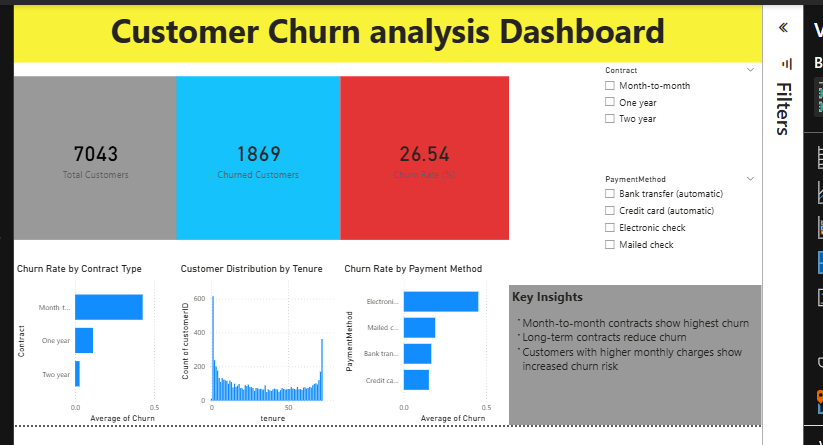

What the dashboard file says about the page in this screenshot:
{"tool":"powerbi","page":{"name":"Page 1","canvas":[1280,720],"ordinal":0},"visuals":[{"type":"card","fields":{"Values":["cleaned_churn_data.Total Customers"]},"box":[0,121.9,280.2,280.2],"z":0},{"type":"barChart","title":"Churn Rate by Contract Type","fields":{"Category":["cleaned_churn_data.Contract"],"Y":["Avg(cleaned_churn_data.Churn)"]},"box":[0,440.6,280.2,280.2],"z":1000},{"type":"barChart","title":"Churn Rate by Payment Method","fields":{"Category":["cleaned_churn_data.PaymentMethod"],"Y":["Avg(cleaned_churn_data.Churn)"]},"box":[560.4,440.6,288.8,280.2],"z":2000},{"type":"clusteredColumnChart","title":"Customer Distribution by Tenure","fields":{"Y":["CountNonNull(cleaned_churn_data.customerID)"],"Category":["cleaned_churn_data.tenure"]},"box":[280.2,440.6,280.2,280.2],"z":3000},{"type":"slicer","fields":{"Values":["cleaned_churn_data.Contract"]},"box":[998.9,98.4,280.2,186.1],"z":4000},{"type":"slicer","fields":{"Values":["cleaned_churn_data.PaymentMethod"]},"box":[998.9,284.5,280.2,194.7],"z":5000},{"type":"textbox","box":[0,0,1280,98.6],"z":6000},{"type":"textbox","box":[847.1,479.2,432.1,241.7],"z":7000},{"type":"card","fields":{"Values":["cleaned_churn_data.Churned Customers"]},"box":[278.1,121.9,280.2,280.2],"z":8000},{"type":"card","fields":{"Values":["cleaned_churn_data.Churn Rate (%)"]},"box":[558.3,121.9,288.8,280.2],"z":9000}]}

Visuals, with their boxes in screenshot pixels (x1, y1, x2, y2):
card - cleaned_churn_data.Total Customers: pyautogui.locateOnScreen(11, 74, 176, 239)
"Churn Rate by Contract Type" barChart: pyautogui.locateOnScreen(11, 262, 176, 427)
"Churn Rate by Payment Method" barChart: pyautogui.locateOnScreen(341, 262, 511, 427)
"Customer Distribution by Tenure" clusteredColumnChart: pyautogui.locateOnScreen(176, 262, 341, 427)
slicer - cleaned_churn_data.Contract: pyautogui.locateOnScreen(599, 60, 764, 170)
slicer - cleaned_churn_data.PaymentMethod: pyautogui.locateOnScreen(599, 170, 764, 284)
textbox: pyautogui.locateOnScreen(11, 2, 765, 60)
textbox: pyautogui.locateOnScreen(510, 284, 764, 427)
card - cleaned_churn_data.Churned Customers: pyautogui.locateOnScreen(175, 74, 340, 239)
card - cleaned_churn_data.Churn Rate (%): pyautogui.locateOnScreen(340, 74, 510, 239)
